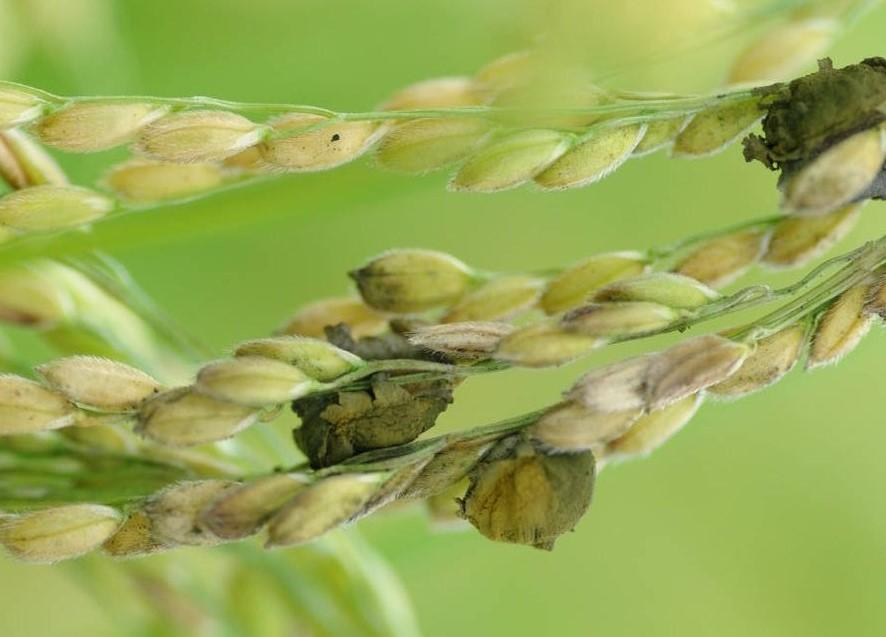False Smut: (275, 317, 477, 472), (458, 420, 608, 562), (742, 55, 886, 188)
